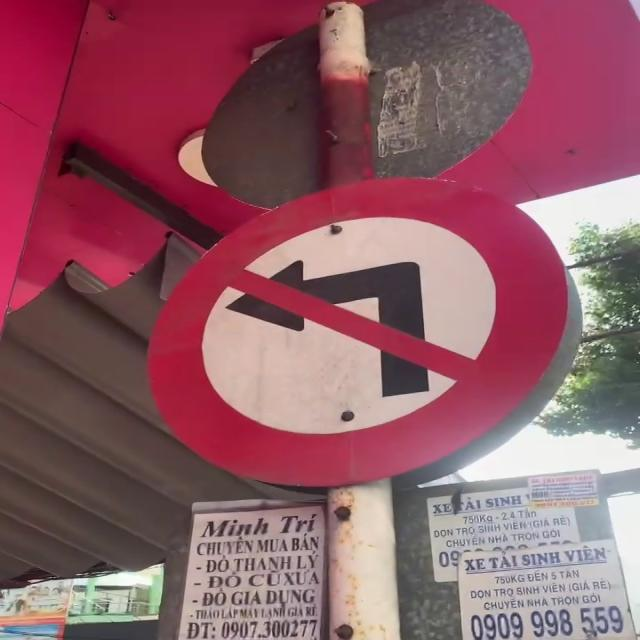Cam_Re_Trai: (145, 175, 572, 488)
